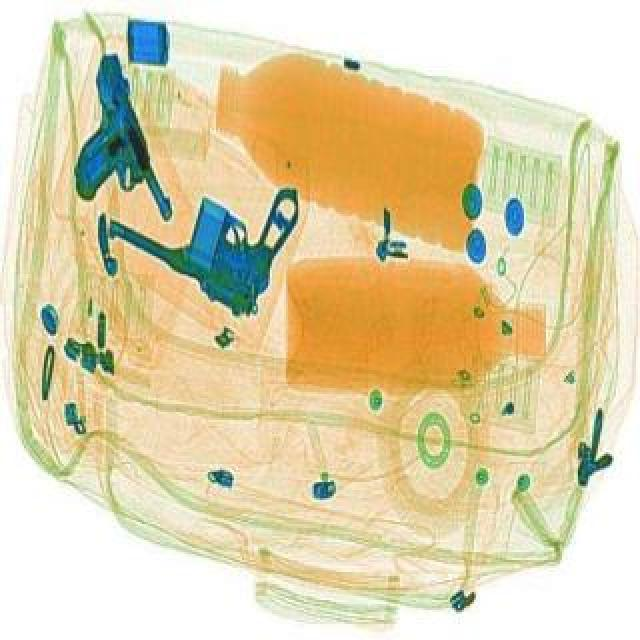gun: (94, 120, 322, 318), (28, 48, 184, 242)
